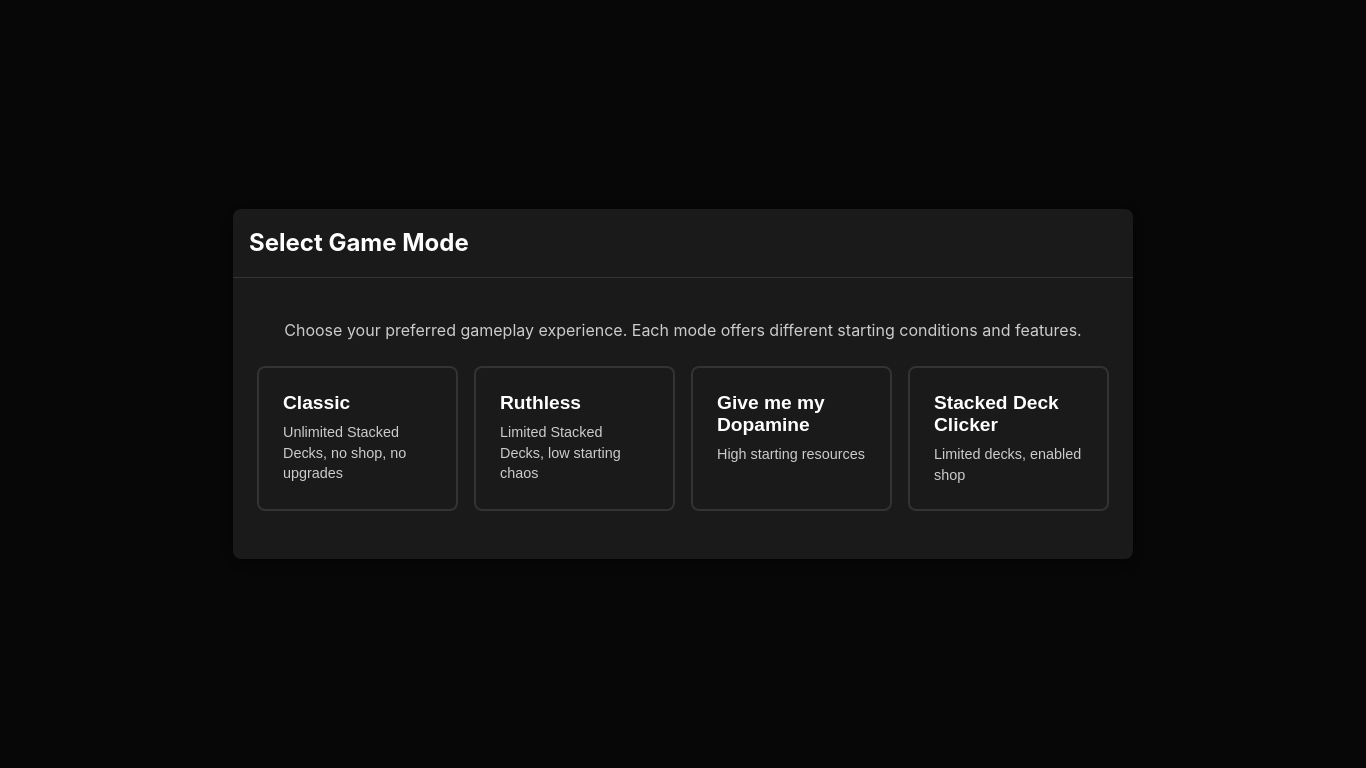
Test: GameModeSelection › Mode change confirmation › should show confirmation dialog when isModeChange is true
The image size is (1366, 768).
Click the button "Classic" at (358, 438), box x1=259 y1=368 x2=456 y2=507
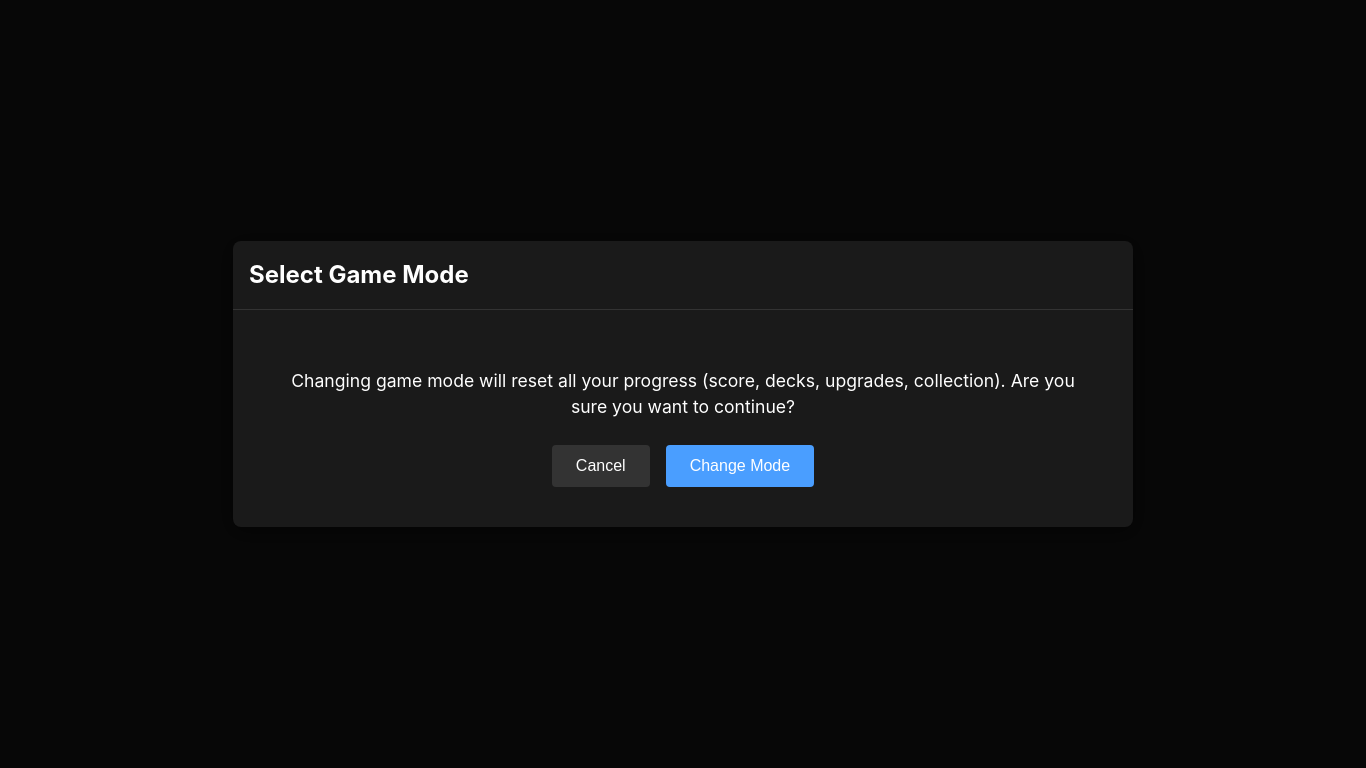
Check: the text "Changing game mode will reset" is shown, box x1=291 y1=370 x2=1075 y2=417
Check: the button "Change Mode" is shown, box x1=666 y1=445 x2=814 y2=487
